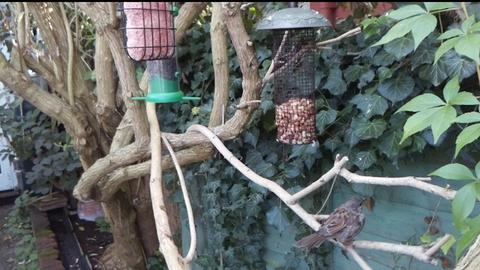dunnock: (293, 197, 366, 251)
